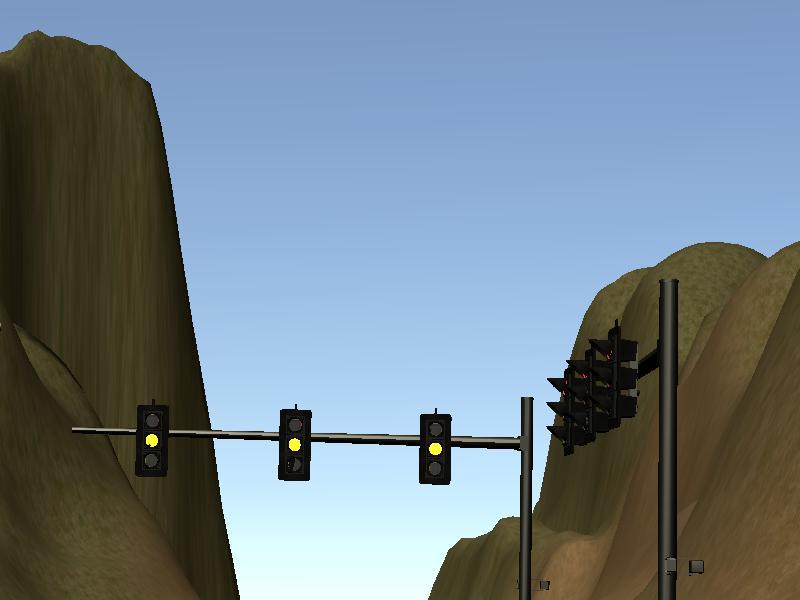Yellow: (135, 405, 168, 476), (278, 410, 309, 481), (420, 414, 450, 485)
